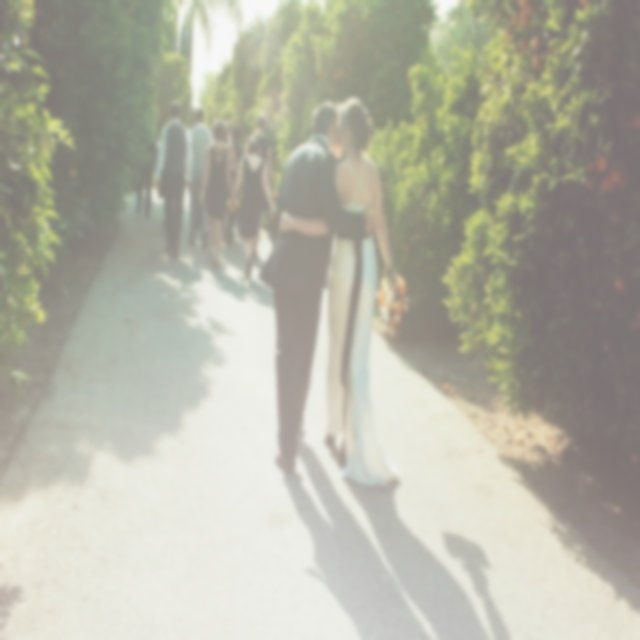pessoa: (278, 95, 410, 493), (258, 99, 376, 474), (230, 134, 278, 282), (154, 97, 192, 259), (198, 117, 236, 267), (186, 105, 214, 252), (248, 112, 276, 257), (133, 140, 158, 220), (230, 124, 244, 199), (222, 122, 234, 177), (222, 202, 228, 240), (208, 125, 214, 142)
